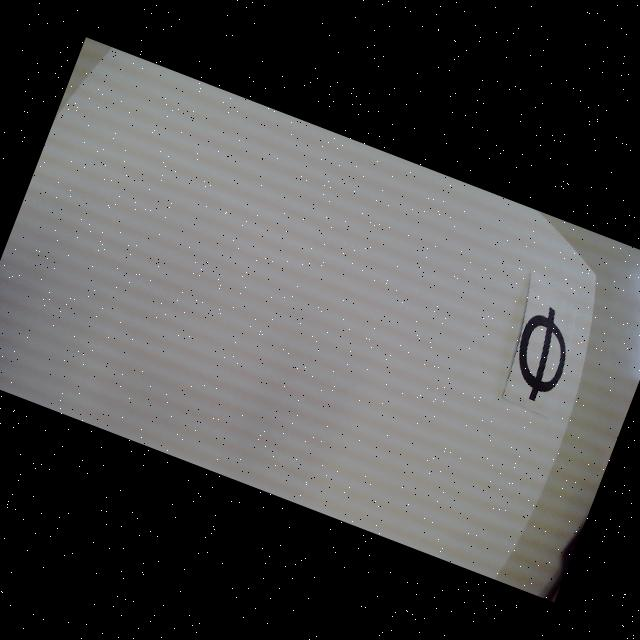PHI: (502, 301, 584, 407)
